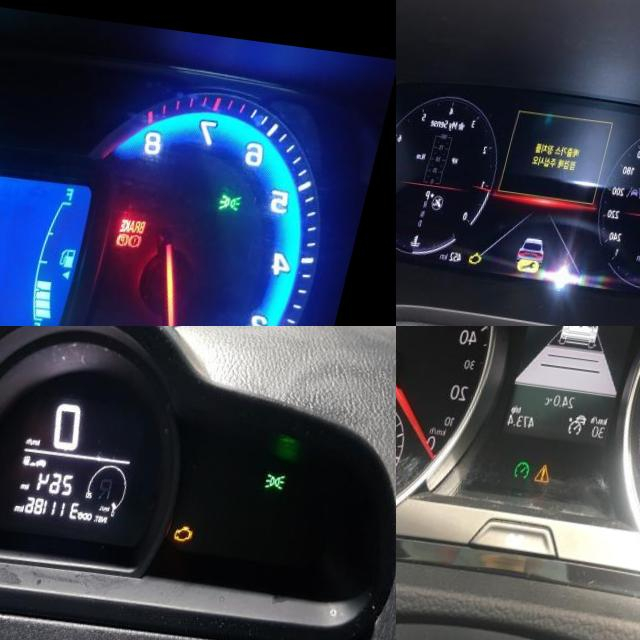SideLamp: (227, 178, 251, 198), (280, 459, 303, 477)
